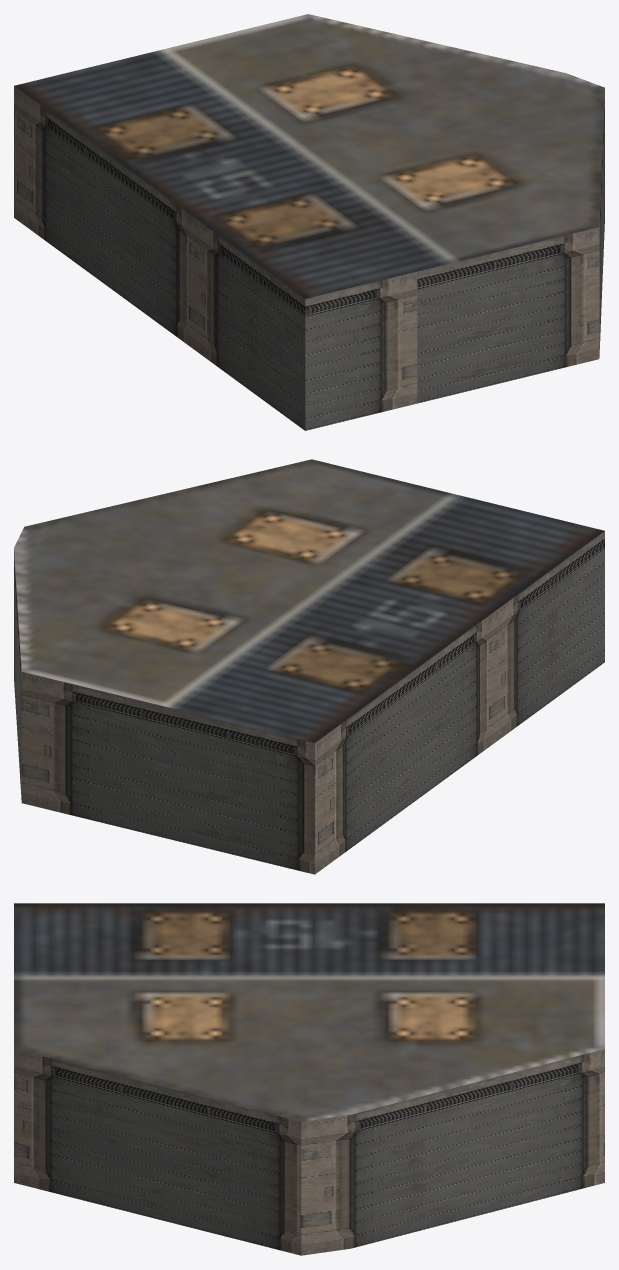
File: hangar_light_a_15.glb
3 views of the same model, one above another, from view 1: azimuth 30°, elevation 25°; view 2: azimuth 150°, elevation 25°; view 3: azimuth 270°, elevation 25° (orthographic).
Parts seen in each view (by area): view 1: buildings/saxarba/hangar_light/hangar_light_a_15; view 2: buildings/saxarba/hangar_light/hangar_light_a_15; view 3: buildings/saxarba/hangar_light/hangar_light_a_15.
Part boxes in pixels (left/top/right/bottom): buildings/saxarba/hangar_light/hangar_light_a_15: left=14, top=14, right=604, bottom=430; buildings/saxarba/hangar_light/hangar_light_a_15: left=14, top=459, right=604, bottom=874; buildings/saxarba/hangar_light/hangar_light_a_15: left=14, top=903, right=604, bottom=1255.
Bounding box in the file's own units: 63 × 18 × 72.
